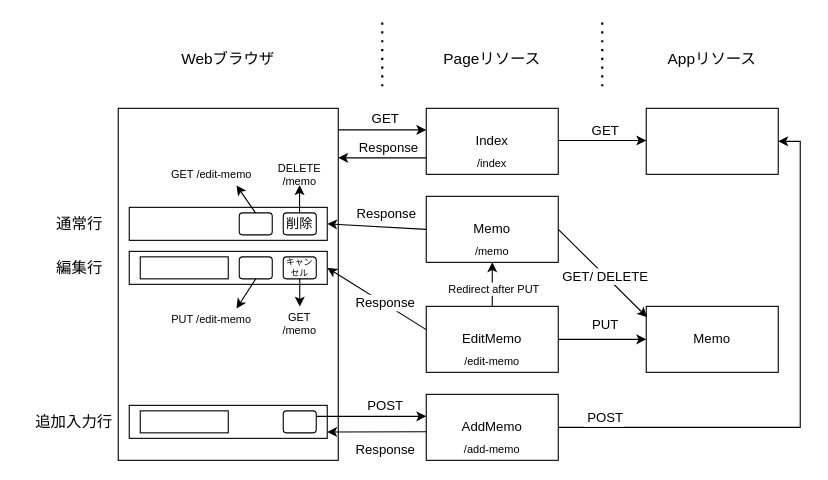
Some shapes in this 828 by 480 pixel diagram are drawn without their labels. Here are the shapes that lost their labels. From the top down, the centre of each, then its label:
pixel 711 140: Memos
pixel 255 223: 編集
pixel 255 267: 登録
pixel 299 421: 追加
